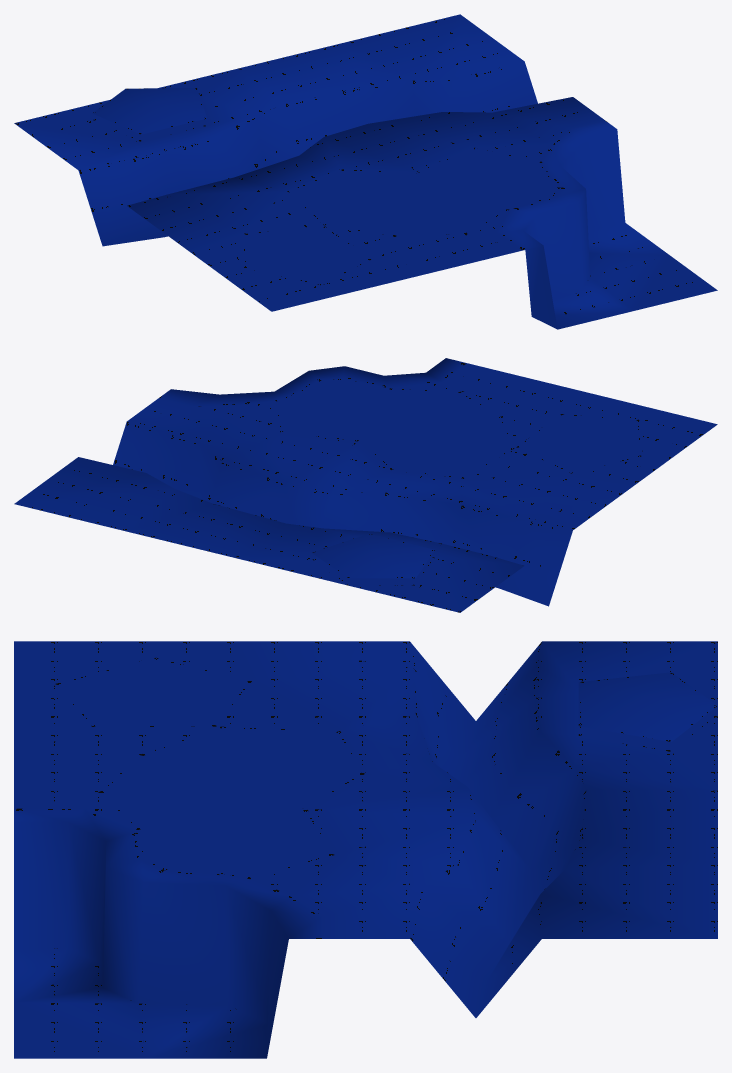
Rendered from GRD_S_C4_R3_1.fbx.
3 renders of one model, top to bottom at view 1: azimuth 30°, elevation 25°; view 2: azimuth 150°, elevation 25°; view 3: azimuth 270°, elevation 25°, orthographic. The views are drawn at different scales.
Visible parts, largest first — view 1: material_00022000, material_C0042000, material_C0052000, material_00032000, material_C0012000, material_C0062000; view 2: material_00022000, material_C0042000, material_C0052000, material_00032000, material_C0012000, material_C0062000; view 3: material_00022000, material_00032000, material_C0052000, material_C0042000, material_C0012000, material_C0062000.
Boxes of the visible parts, bbox=[...] form: material_00022000: bbox=[14, 14, 717, 329]; material_C0042000: bbox=[78, 61, 537, 246]; material_C0052000: bbox=[242, 147, 560, 285]; material_00032000: bbox=[496, 120, 625, 329]; material_C0012000: bbox=[92, 88, 206, 134]; material_C0062000: bbox=[92, 116, 206, 141]; material_00022000: bbox=[14, 363, 717, 612]; material_C0042000: bbox=[113, 421, 572, 606]; material_C0052000: bbox=[274, 378, 642, 478]; material_00032000: bbox=[159, 358, 466, 406]; material_C0012000: bbox=[311, 533, 434, 578]; material_C0062000: bbox=[312, 556, 434, 585]; material_00022000: bbox=[14, 641, 717, 1058]; material_00032000: bbox=[14, 808, 322, 1057]; material_C0052000: bbox=[53, 657, 365, 879]; material_C0042000: bbox=[410, 642, 586, 1017]; material_C0012000: bbox=[578, 672, 717, 741]; material_C0062000: bbox=[578, 711, 717, 751].
Bounding box in the file's own units: 12800 × 2800 × 12800.
